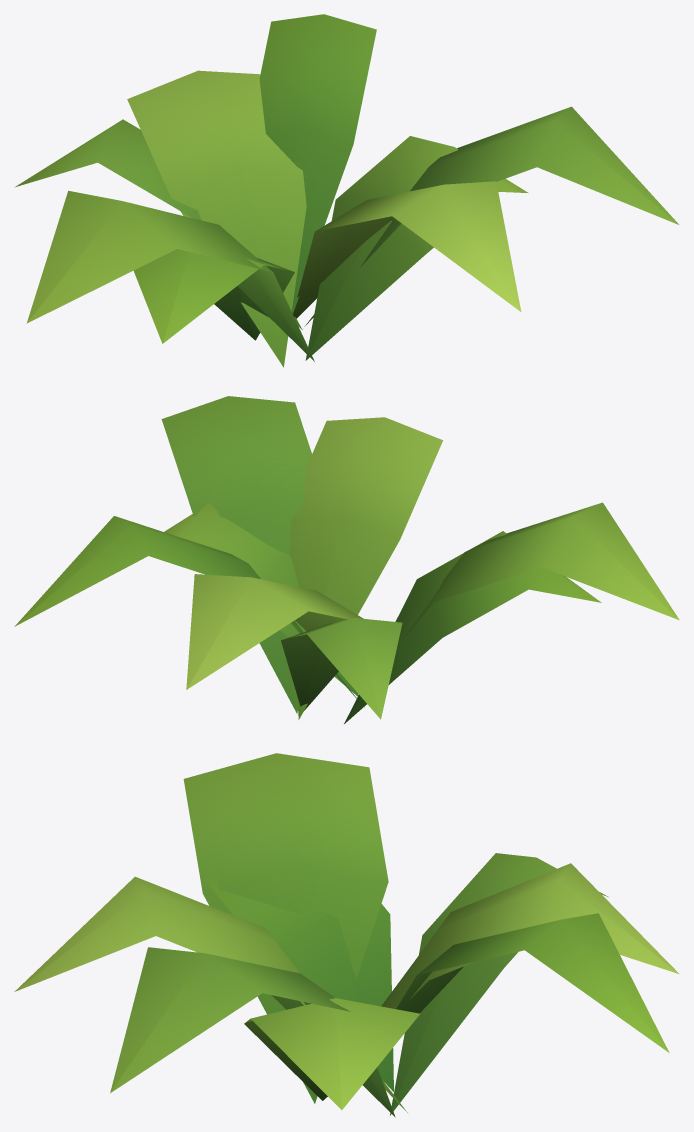
File: Grass_Rosette_B_Low.fbx
3 renders of one model, top to bottom at view 1: azimuth 30°, elevation 25°; view 2: azimuth 150°, elevation 25°; view 3: azimuth 270°, elevation 25°, orthographic. The views are drawn at different scales.
Parts seen in each view (by area): view 1: Grass_Rosette_B_Low; view 2: Grass_Rosette_B_Low; view 3: Grass_Rosette_B_Low.
Part boxes in pixels (x1,y1,x2,y2): Grass_Rosette_B_Low: (14,14,678,367); Grass_Rosette_B_Low: (14,396,679,723); Grass_Rosette_B_Low: (14,753,679,1117).
Size of the model in its own units: 0.5677 by 0.2167 by 0.5239.
